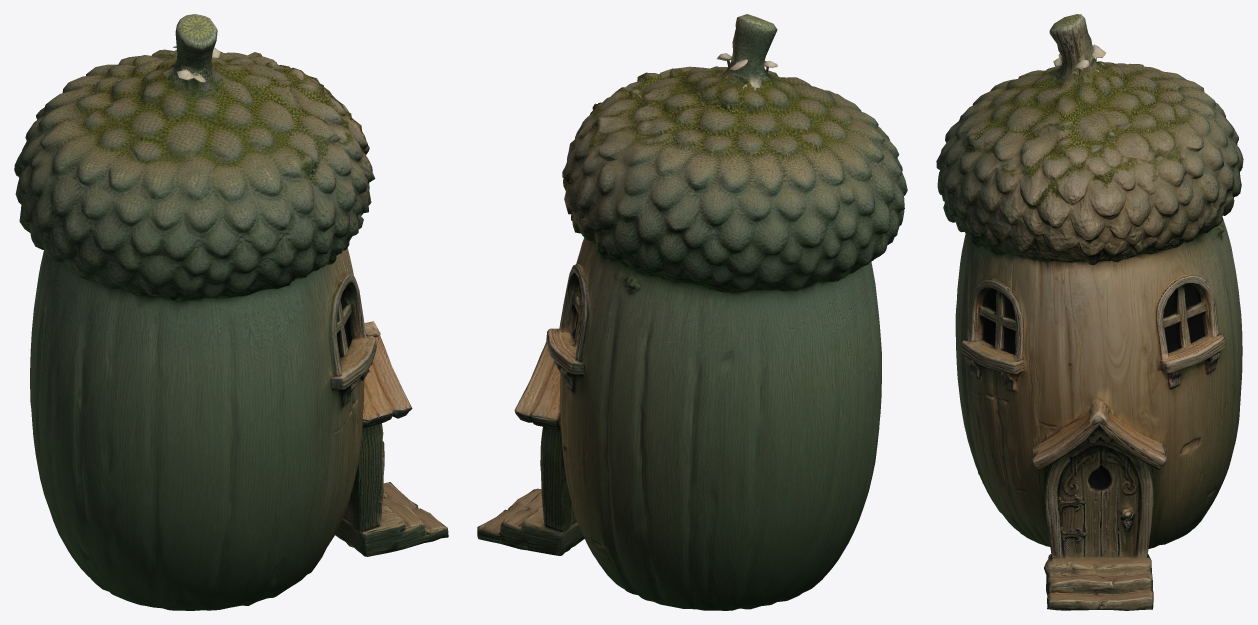
File: tripo_convert_2f05d611-f776-48ec-a419-8e8cf2dd4ca8.fbx
The picture shows the model from 3 angles, left to right: view 1: azimuth 30°, elevation 25°; view 2: azimuth 150°, elevation 25°; view 3: azimuth 270°, elevation 25°; orthographic projection. The views are drawn at different scales.
Parts seen in each view (by area): view 1: tripo_node_2f05d611; view 2: tripo_node_2f05d611; view 3: tripo_node_2f05d611.
Part boxes in pixels (<box>): tripo_node_2f05d611: <box>14,14,448,610</box>; tripo_node_2f05d611: <box>477,14,907,610</box>; tripo_node_2f05d611: <box>936,14,1243,610</box>.
Size of the model in its own units: 0.7199 by 1 by 0.5636.
1 material, 1 textured.
